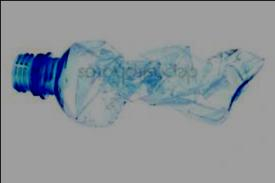Plastic: (8, 34, 268, 137)
